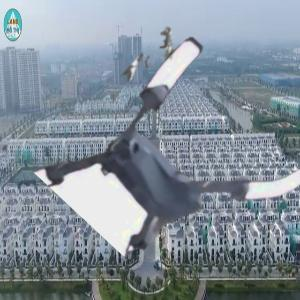drone: (77, 56, 297, 276)
